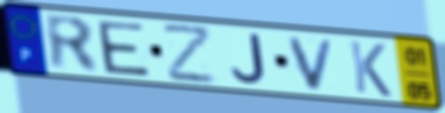E: (94, 19, 153, 79)
J: (229, 33, 269, 87)
K: (347, 38, 394, 100)
R: (41, 12, 103, 76)
V: (285, 35, 339, 93)
Z: (160, 24, 218, 85)
